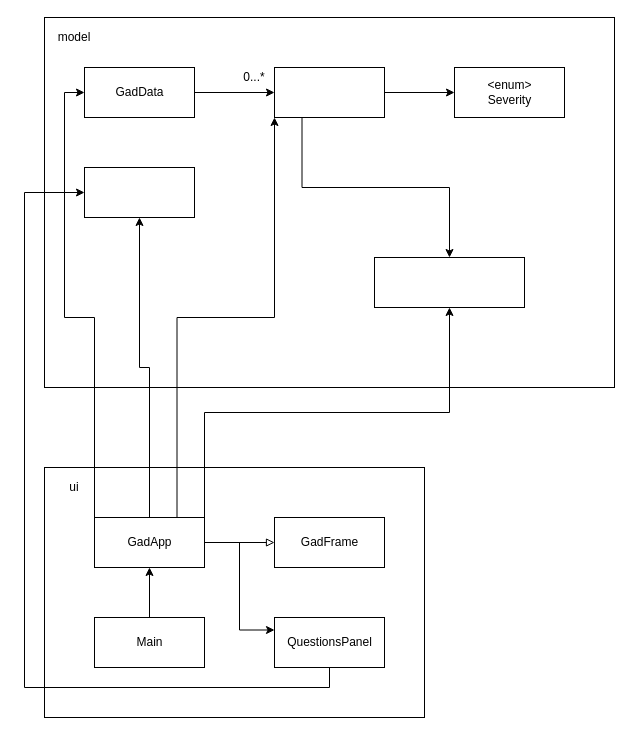
This 632x735 diagram has some shape labels left out. The box of each missing label's shape, as (x1, y1, x2, y2) in pixels:
GadQuestions: (84, 166, 194, 218)
GadRecord: (274, 66, 384, 118)
ScoreTooHighException: (374, 256, 524, 308)
